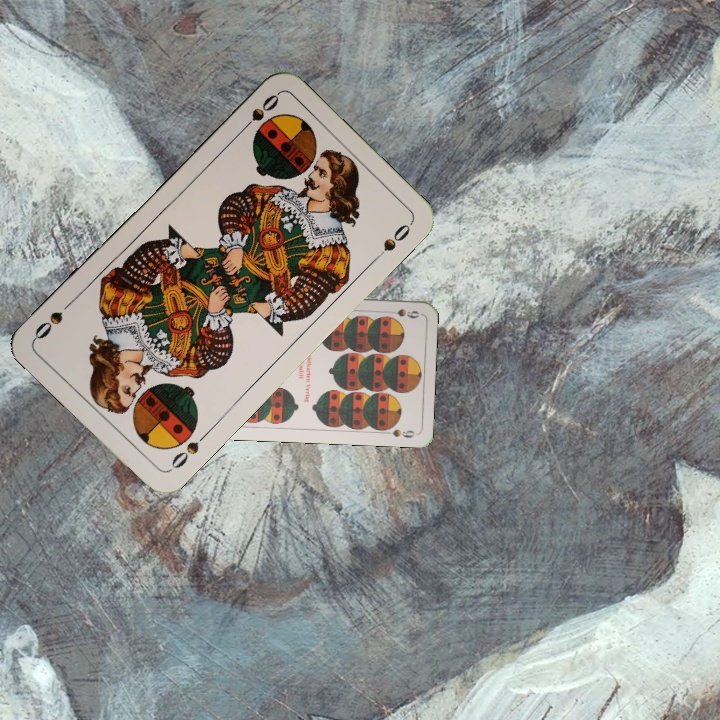S9: (381, 305, 421, 321)
SO: (235, 90, 282, 137), (165, 427, 211, 474)
